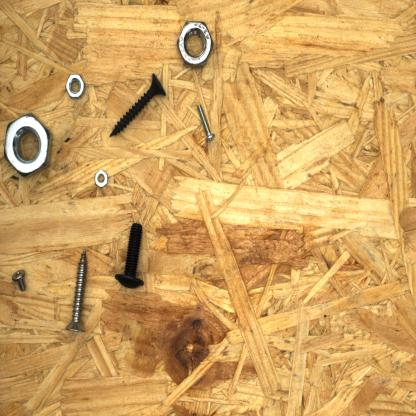screw: (107, 69, 172, 141), (112, 220, 148, 291), (63, 246, 91, 337), (194, 100, 216, 145), (10, 267, 34, 294)
